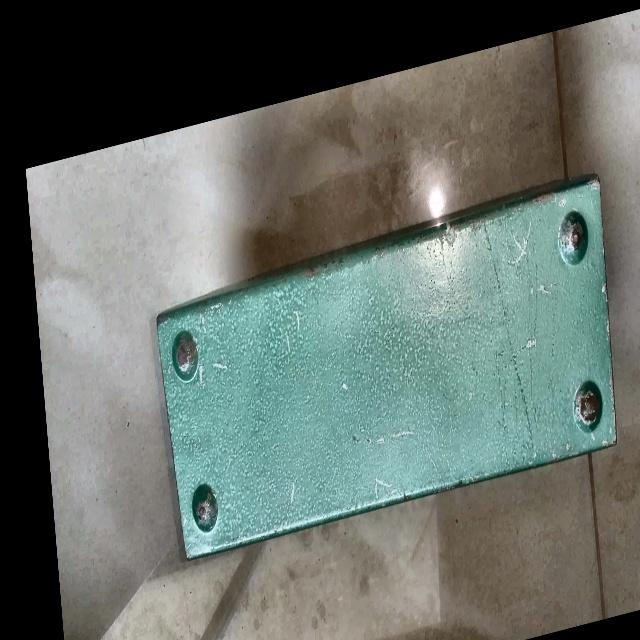Dial Resistance Box: (145, 158, 630, 572)
